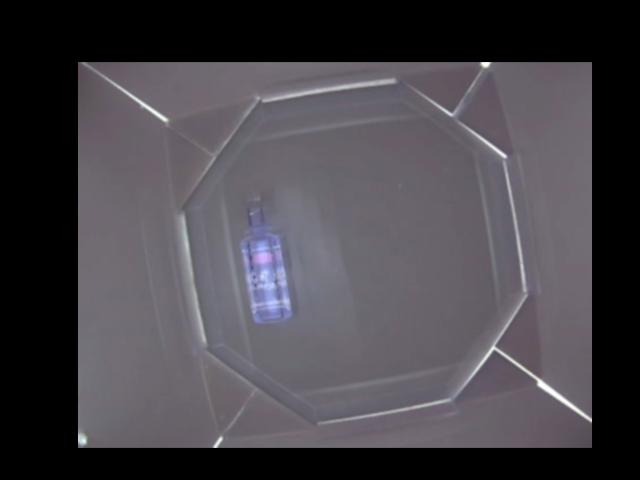Bottle: (234, 191, 295, 324)
